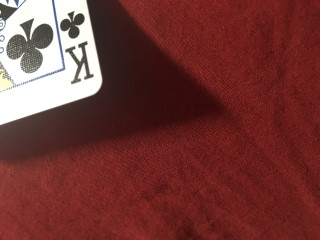KingOfClubs: (1, 1, 103, 126)
